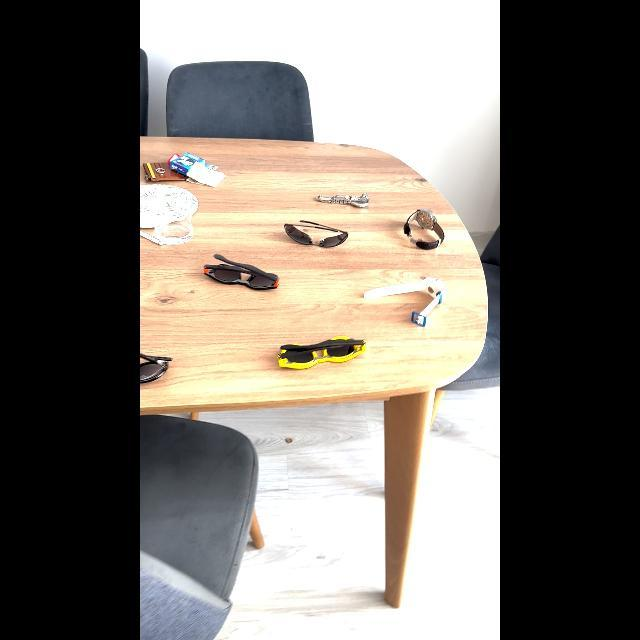eyewear: (270, 329, 376, 377), (195, 245, 288, 297), (276, 214, 354, 254)
